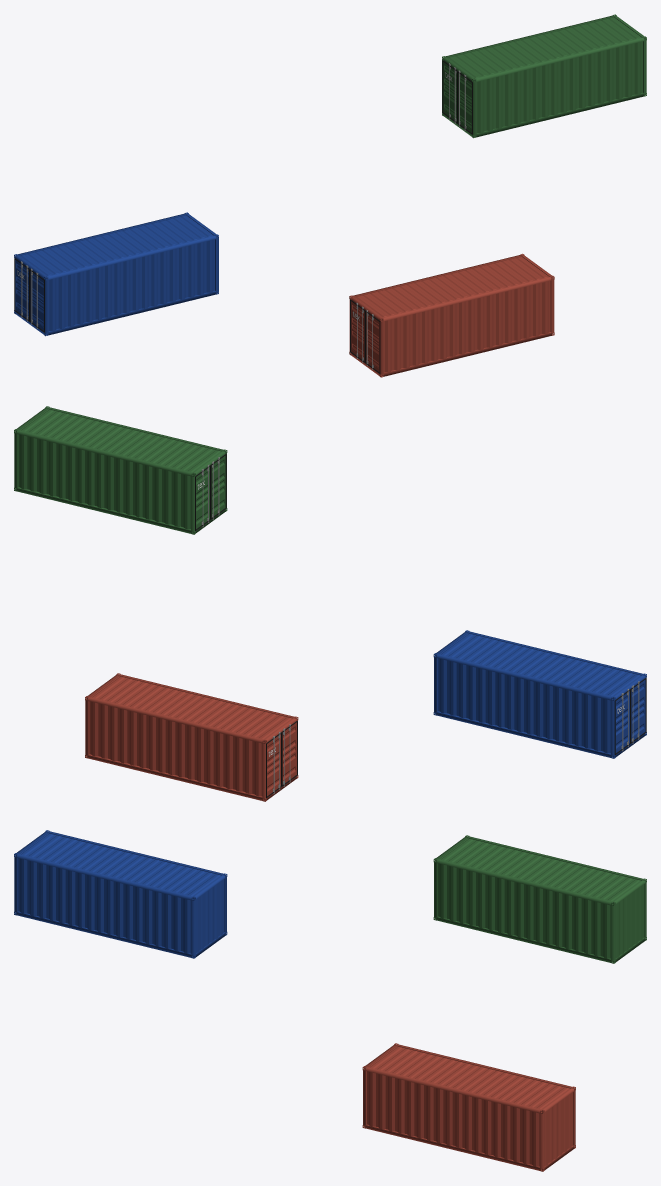
Rendered from container.fbx.
3 views of the same model, one above another, from view 1: azimuth 30°, elevation 25°; view 2: azimuth 150°, elevation 25°; view 3: azimuth 330°, elevation 25° (orthographic). The views are drawn at different scales.
Parts seen in each view (by area): view 1: red cont, green cont, blue cont; view 2: blue cont, green cont, red cont; view 3: red cont, green cont, blue cont.
Boxes of the visible parts, x1,y1,x2,y2 form: red cont: (349,253,554,377); green cont: (442,14,646,138); blue cont: (14,212,218,336); blue cont: (433,630,646,758); green cont: (14,406,227,534); red cont: (85,673,298,801); red cont: (362,1043,575,1171); green cont: (433,835,646,963); blue cont: (14,830,227,958).
Bounding box in the file's own units: 9710 × 4511 × 1243.
